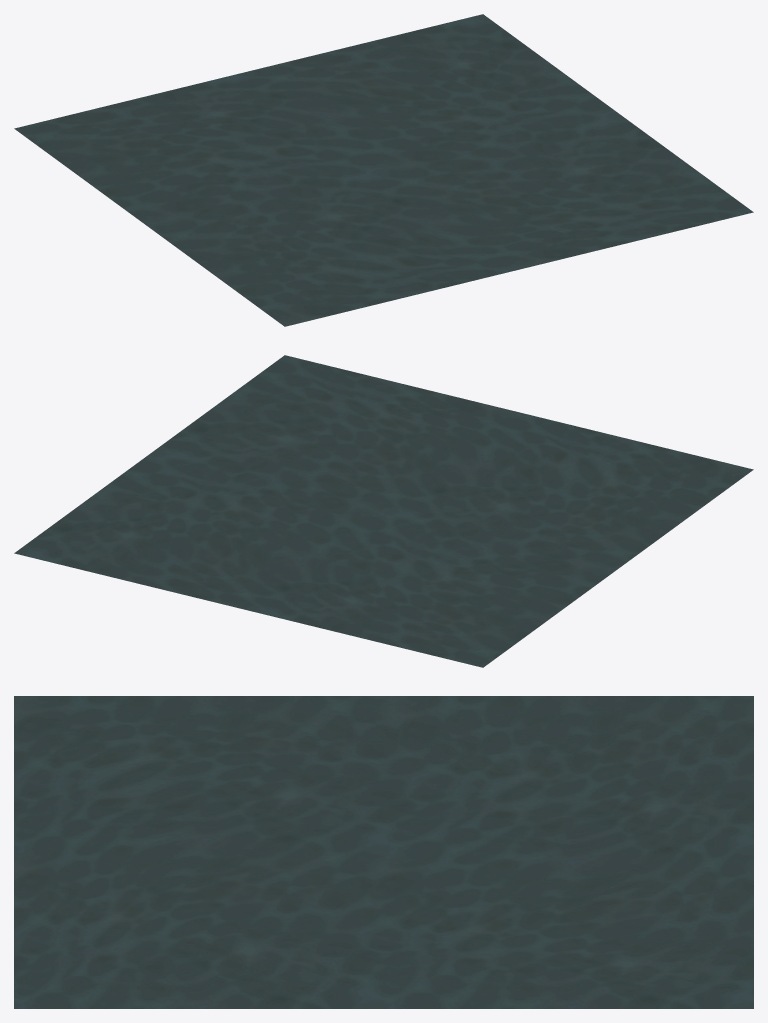
The model's file is z1_water_01.fbx.
The picture shows the model from 3 angles, top to bottom: view 1: azimuth 30°, elevation 25°; view 2: azimuth 150°, elevation 25°; view 3: azimuth 270°, elevation 25°; orthographic projection. The views are drawn at different scales.
Parts seen in each view (by area): view 1: obj0.161; view 2: obj0.161; view 3: obj0.161.
Part boxes in pixels (box(x1,y1,x2,y2)): obj0.161: box(14, 14, 753, 326); obj0.161: box(14, 355, 753, 667); obj0.161: box(14, 696, 753, 1008).
Bounding box in the file's own units: 20 × 5.01e-06 × 20.
